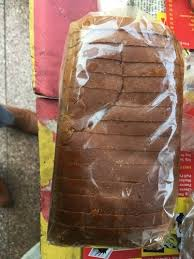bread: (51, 7, 177, 251)
